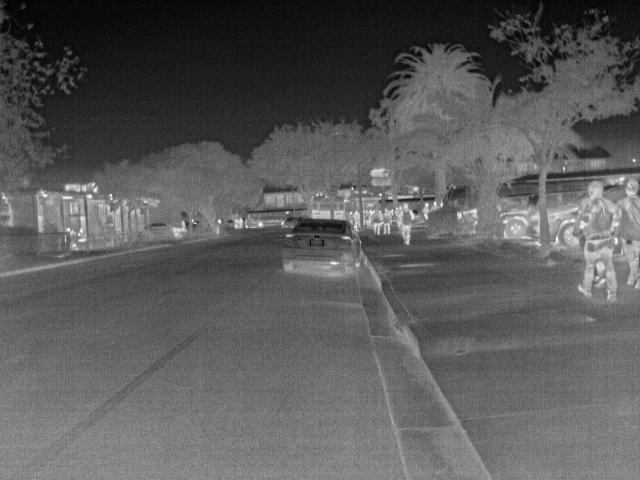car: (281, 215, 367, 278), (544, 206, 580, 246), (501, 206, 538, 240), (139, 221, 177, 246), (456, 204, 478, 236), (278, 218, 301, 230)
person: (576, 182, 622, 305), (614, 177, 638, 293), (398, 200, 417, 241), (61, 224, 80, 251), (381, 207, 394, 234), (369, 208, 382, 235), (74, 227, 88, 242)
